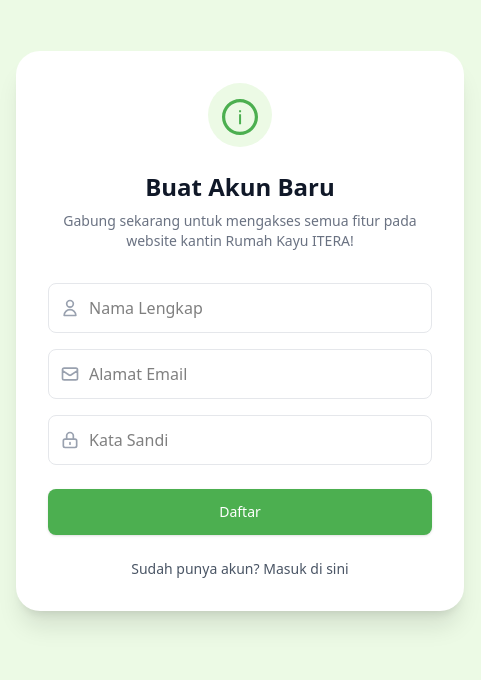
Test: Register › should display error message when fetch fails
Type "John Doe" into the field with placeholder "Nama Lengkap".
click(240, 308); type("John Doe")  # box [48,283,432,333]
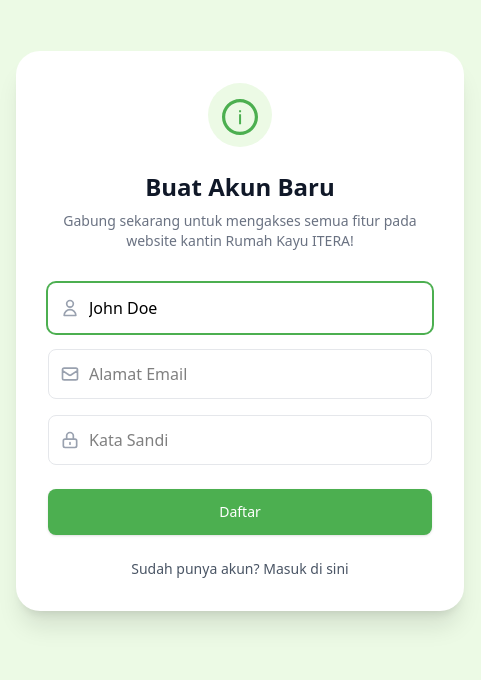
Type "john@example.com" into the field with placeholder "Alamat Email".
click(240, 374); type("john@example.com")  # box [48,349,432,399]
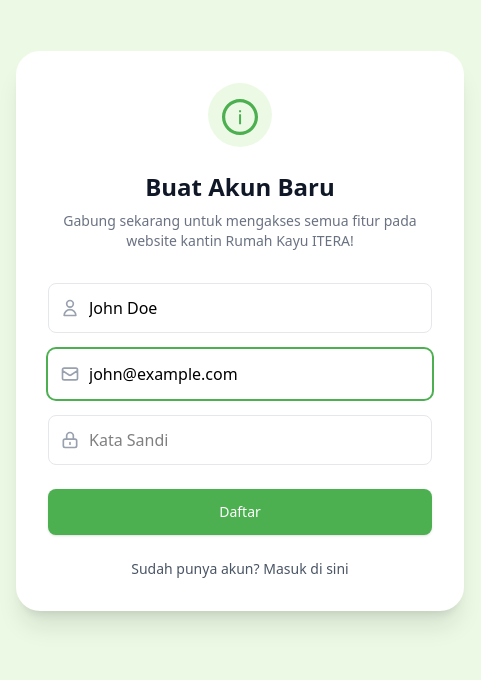
Type "password123" into the password field with placeholder "Kata Sandi".
click(240, 440); type("password123")  # box [48,415,432,465]
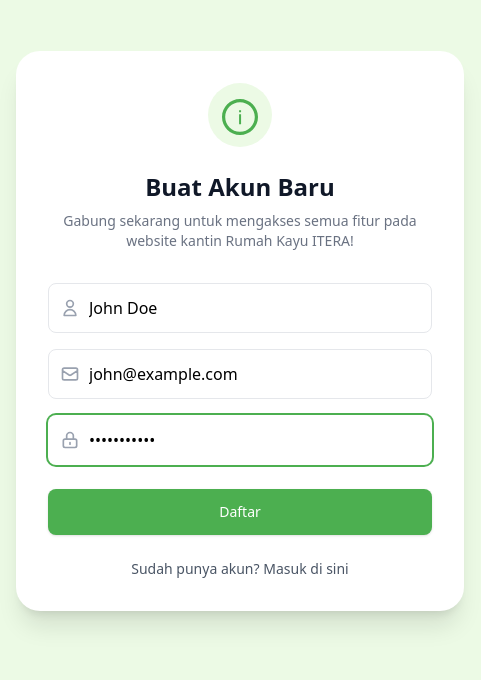
Click the button "Daftar".
click(240, 512)  # box [48,489,432,535]
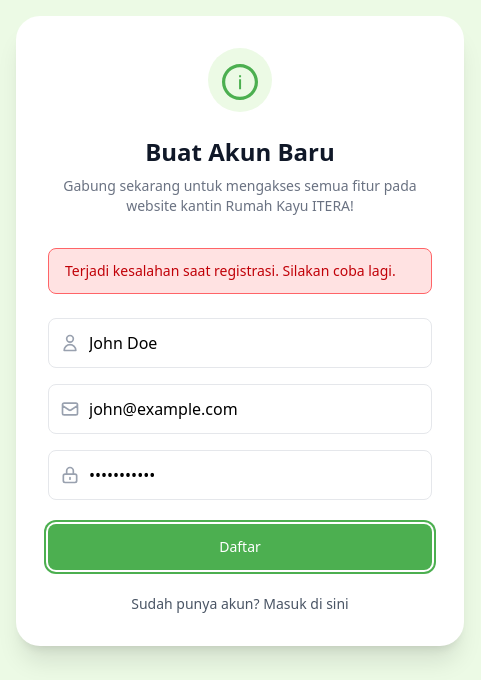
Now the text "Terjadi kesalahan saat registrasi. Silakan coba lagi." is shown, box [48,248,432,294]
